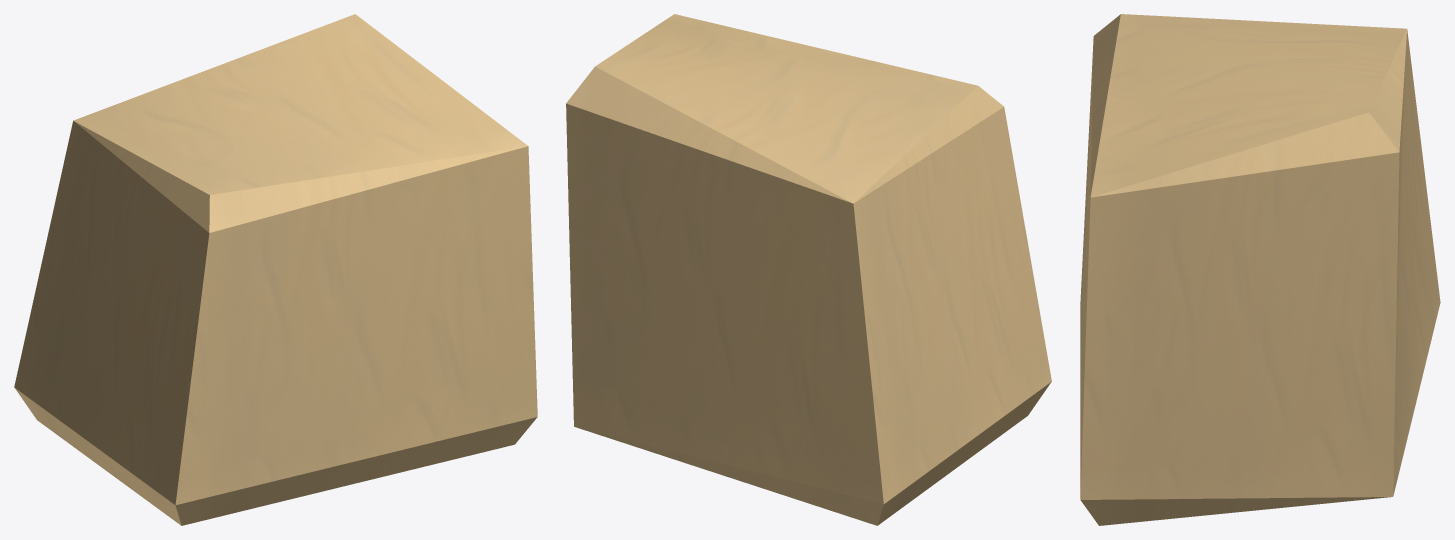
File: BlockD.FBX
3 views of the same model, side by side, from view 1: azimuth 30°, elevation 25°; view 2: azimuth 150°, elevation 25°; view 3: azimuth 270°, elevation 25° (orthographic). The views are drawn at different scales.
Visible parts, largest first — view 1: BlockD; view 2: BlockD; view 3: BlockD.
Boxes of the visible parts, <box> form: BlockD: <box>14,14,537,525</box>; BlockD: <box>566,14,1051,525</box>; BlockD: <box>1080,14,1440,525</box>.
Bounding box in the file's own units: 6.49 × 5 × 6.01.
Materials: 1 (1 with a texture image).
